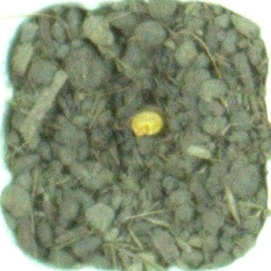chilli seed: (131, 110, 164, 139)
